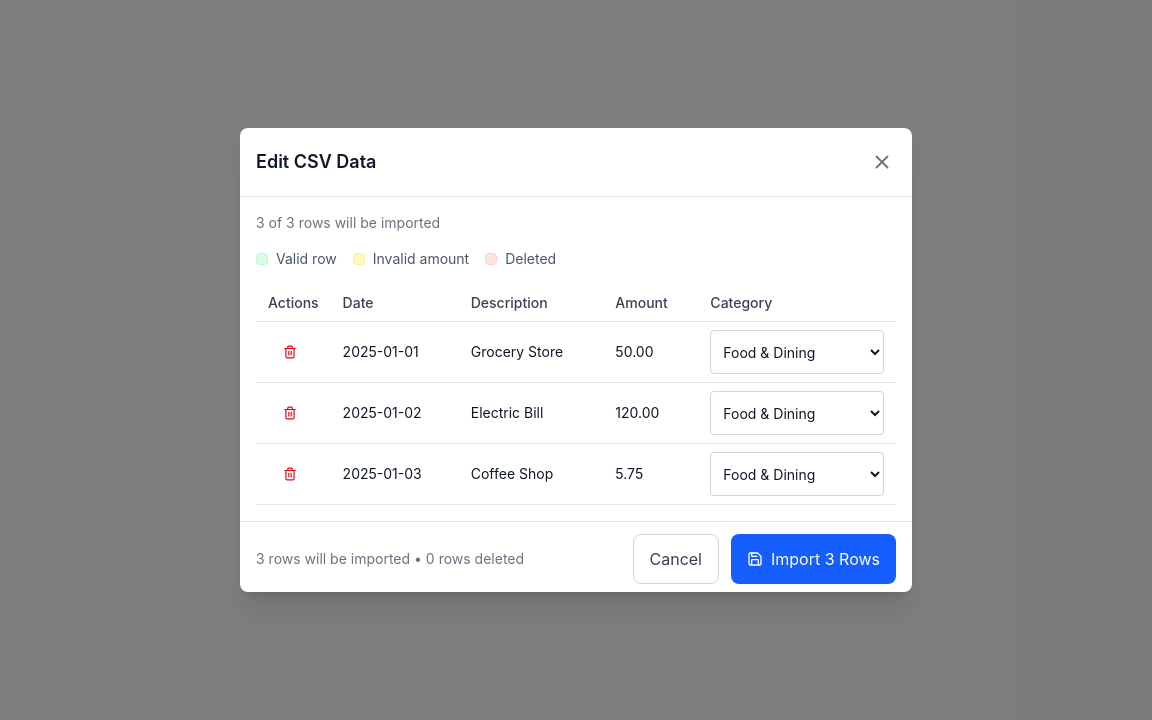
CSVPreviewEditor › deleted rows are excluded from valid count
Expected: the text "3 of 3 rows will be imported" is shown, [256,214,440,231]
Click the button titled "Delete row" next to "2025-01-01" at (290, 352), box [268,330,312,374]
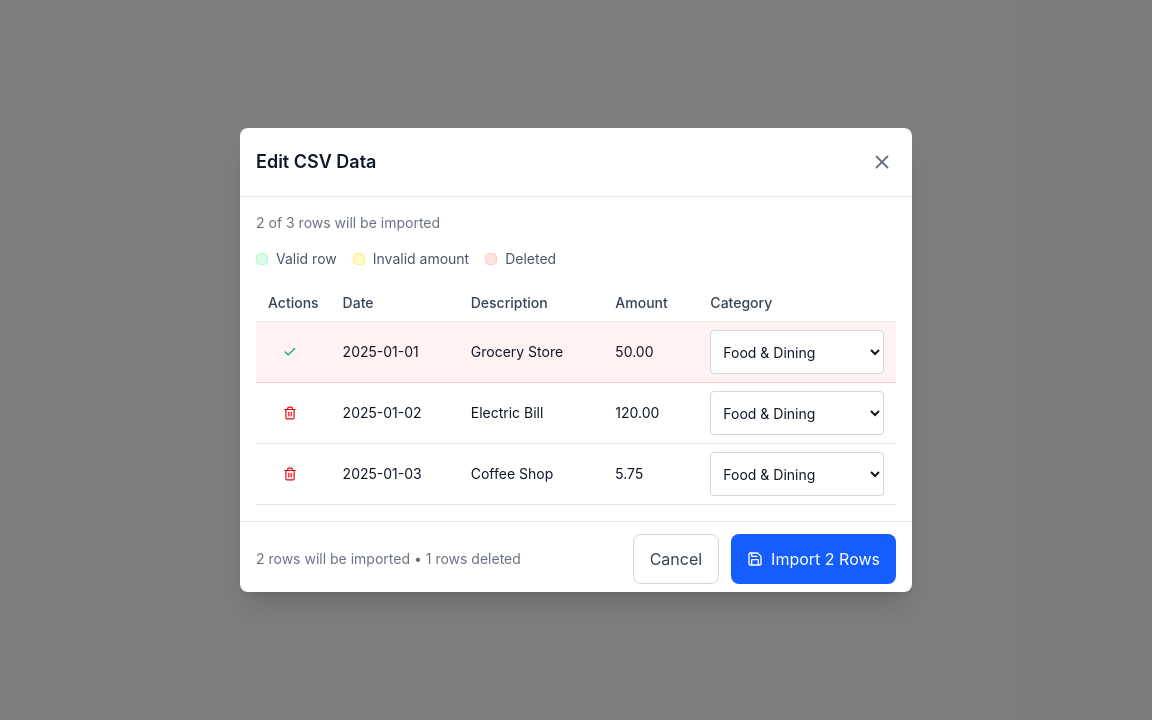
Now the text "2 of 3 rows will be imported" is shown, box [256,214,440,231]
